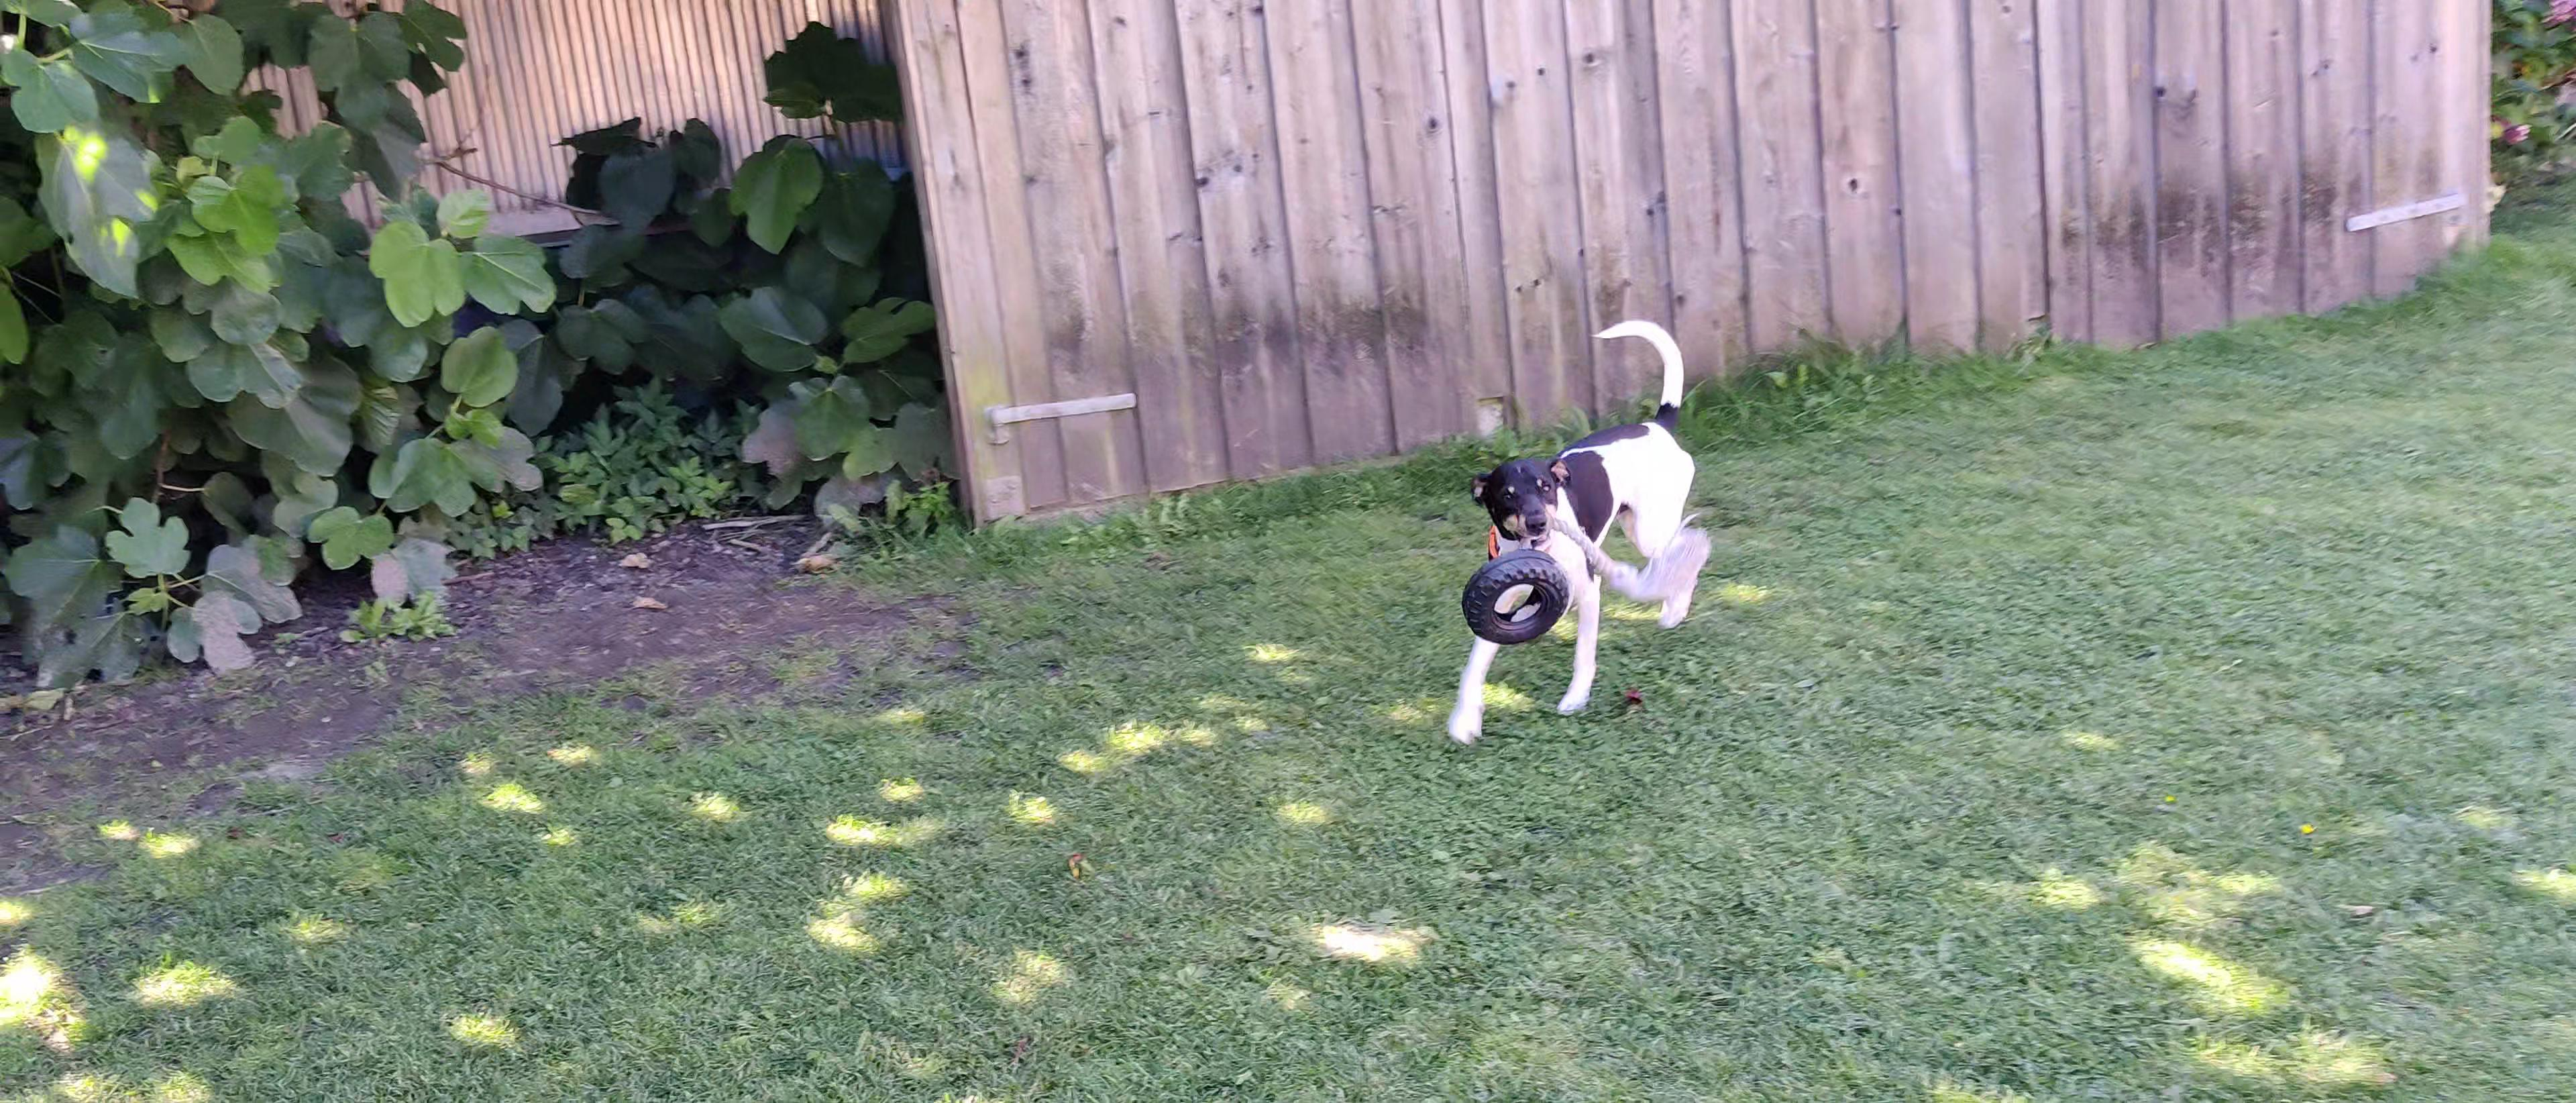Dog: (1414, 306, 1713, 753)
